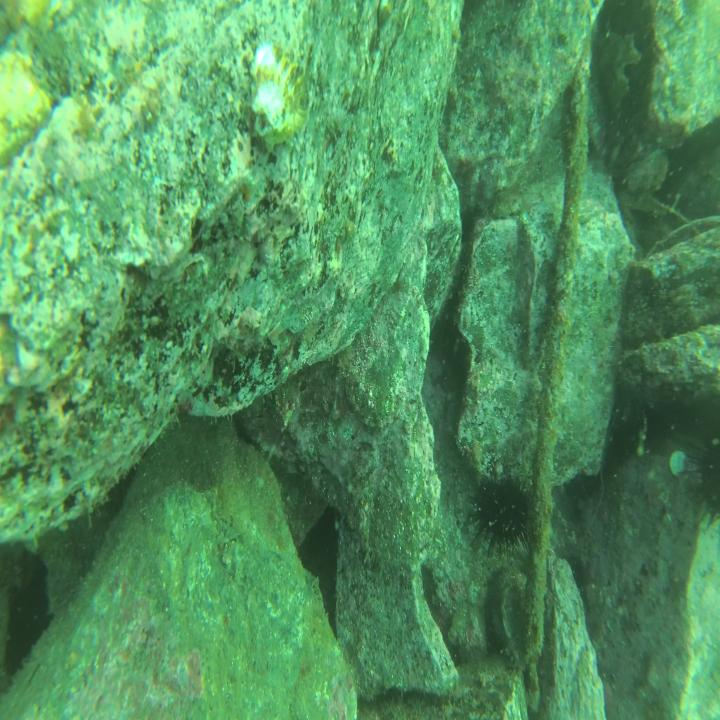echinus: (472, 476, 536, 561), (693, 432, 720, 509)
scallop: (254, 38, 311, 151)
